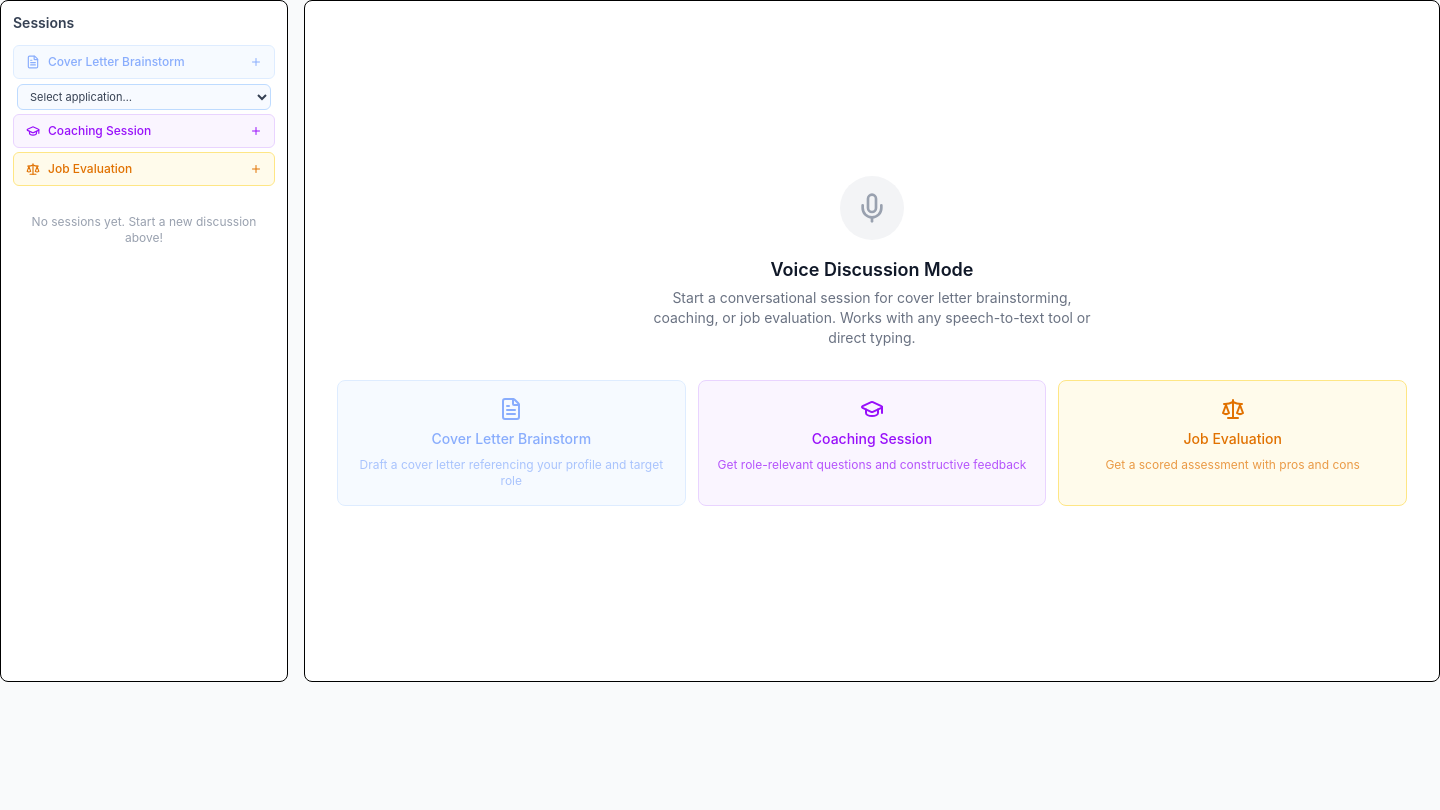
VoiceDiscussion › session with messages › renders session messages when active
The image size is (1440, 810).
The session list item is the last one with that text
Click the text "Coaching Session" below "Voice Discussion Mode" at (872, 439), box 812,429 -> 932,449
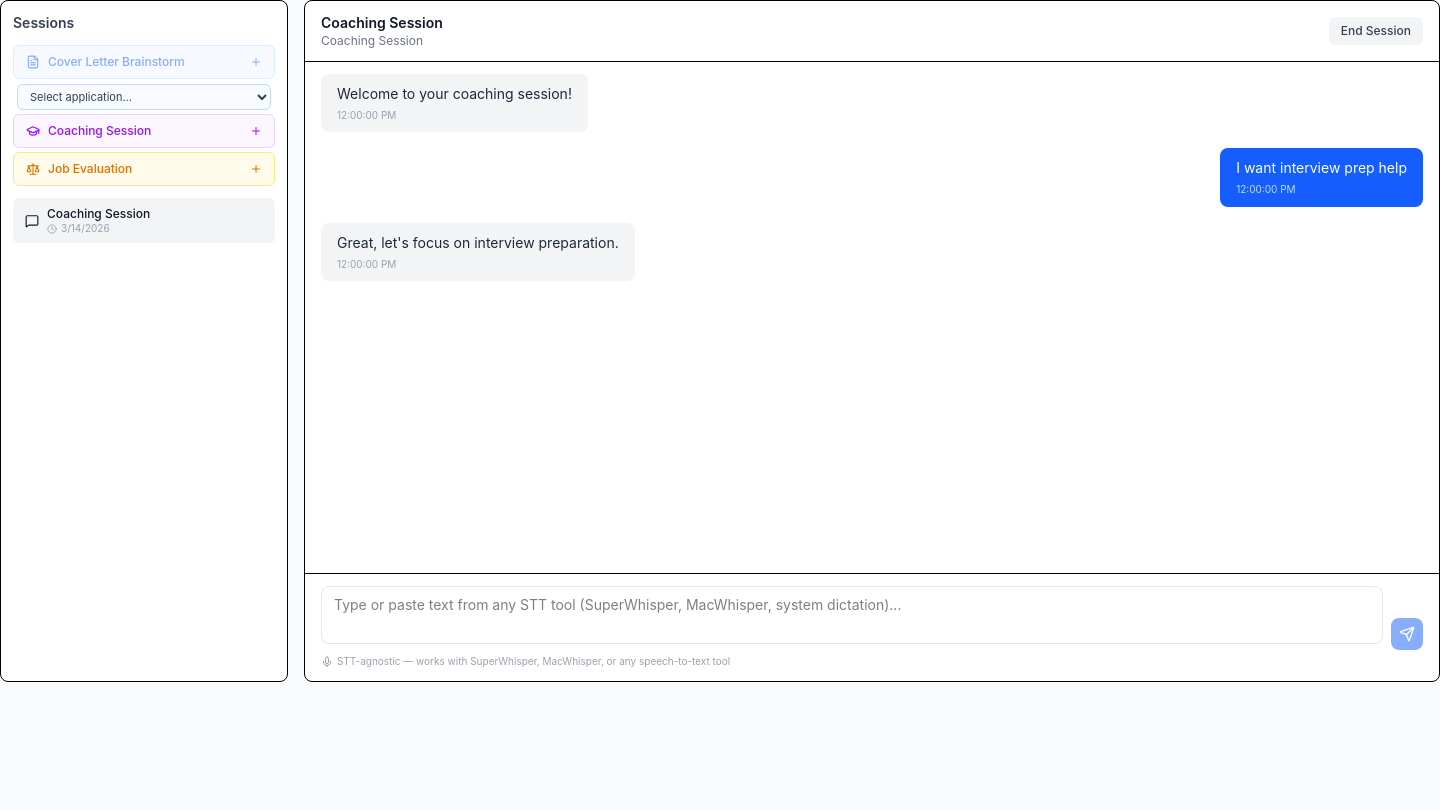
Expected: the text "Welcome to your coaching session!" is shown, 337,84 -> 572,104
Expected: the text "I want interview prep help" is shown, 1236,158 -> 1407,178
Expected: the text "Great, let's focus on interview preparation." is shown, 337,233 -> 619,253
